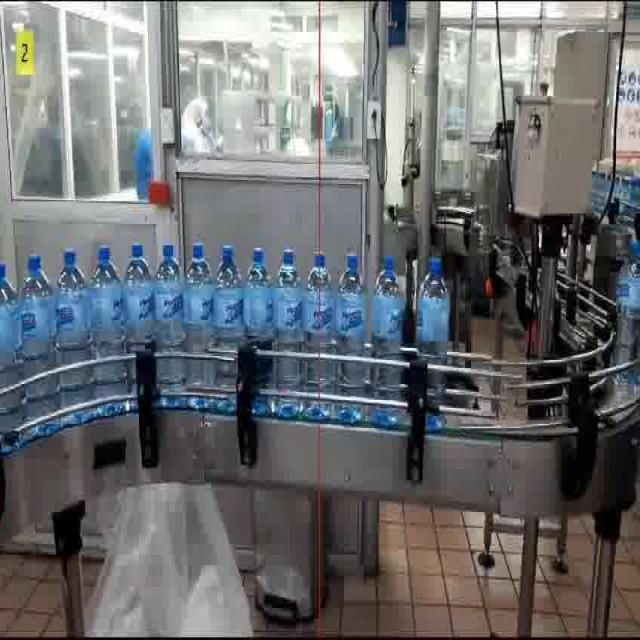bottle: (330, 242, 377, 423), (270, 238, 312, 406), (300, 239, 338, 424), (87, 244, 128, 415), (413, 254, 452, 432), (53, 247, 95, 410), (368, 250, 408, 417), (17, 252, 56, 422), (184, 237, 222, 397), (155, 244, 193, 402), (120, 240, 161, 376), (210, 243, 245, 351), (242, 245, 273, 340)
